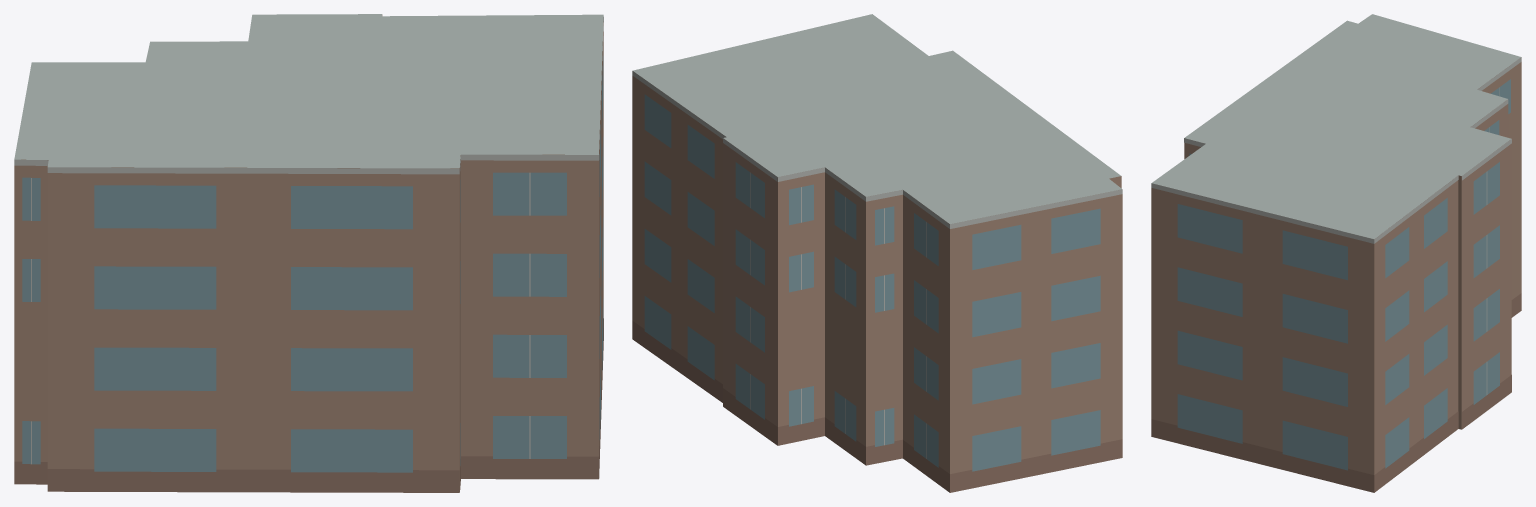
The model's file is survey-upis-33016047.glb.
3 renders of one model, left to right at view 1: azimuth 30°, elevation 25°; view 2: azimuth 150°, elevation 25°; view 3: azimuth 270°, elevation 25°, orthographic. The views are drawn at different scales.
Visible parts, largest first — view 1: survey-upis-33016047.tmp; view 2: survey-upis-33016047.tmp; view 3: survey-upis-33016047.tmp.
Part boxes in pixels (bbox=[...]): survey-upis-33016047.tmp: bbox=[14, 14, 603, 492]; survey-upis-33016047.tmp: bbox=[632, 14, 1122, 492]; survey-upis-33016047.tmp: bbox=[1151, 14, 1521, 492].
Bounding box in the file's own units: 25.54 × 13.4 × 17.73.
